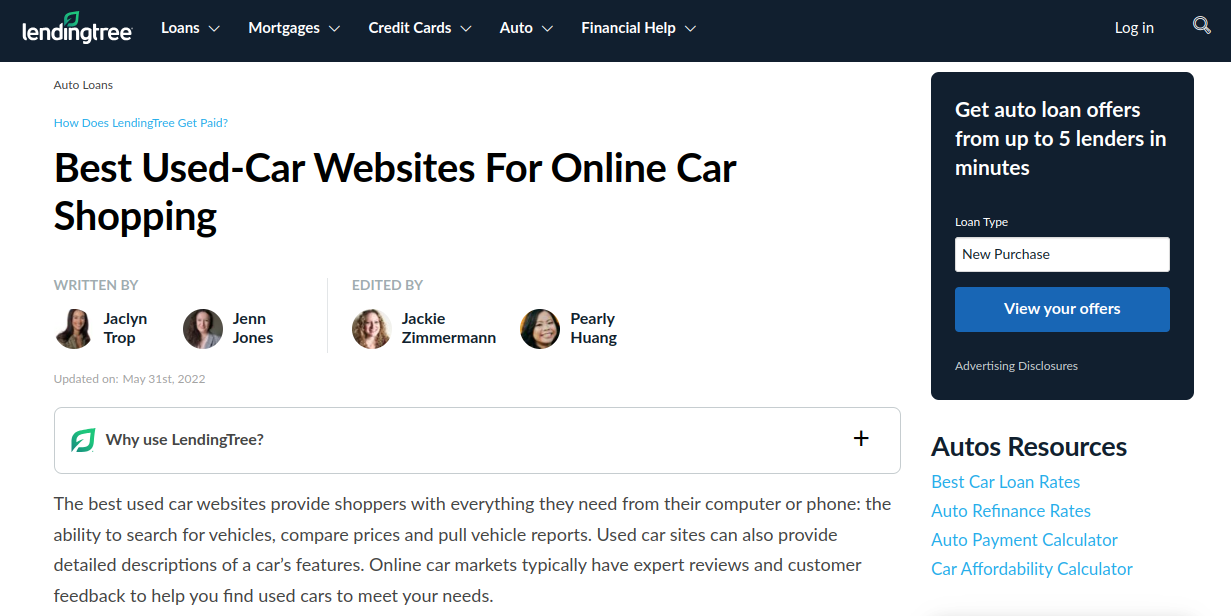menu-bar: (6, 6, 1223, 57)
